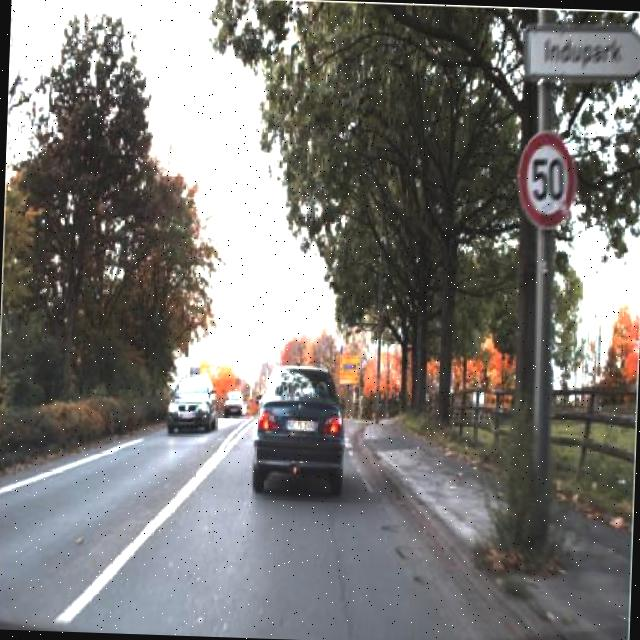Ograniczenie predkosci do 50: (516, 130, 579, 232)
